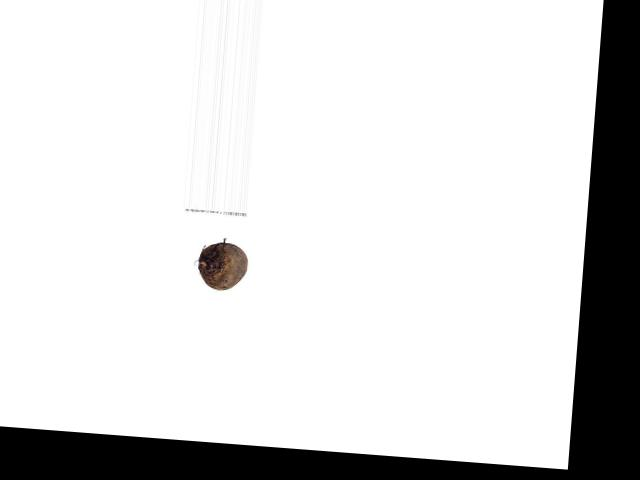beet: (197, 241, 250, 291)
